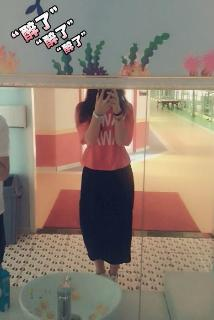short sleeve top: (74, 98, 134, 171)
skirt: (79, 159, 135, 265)
